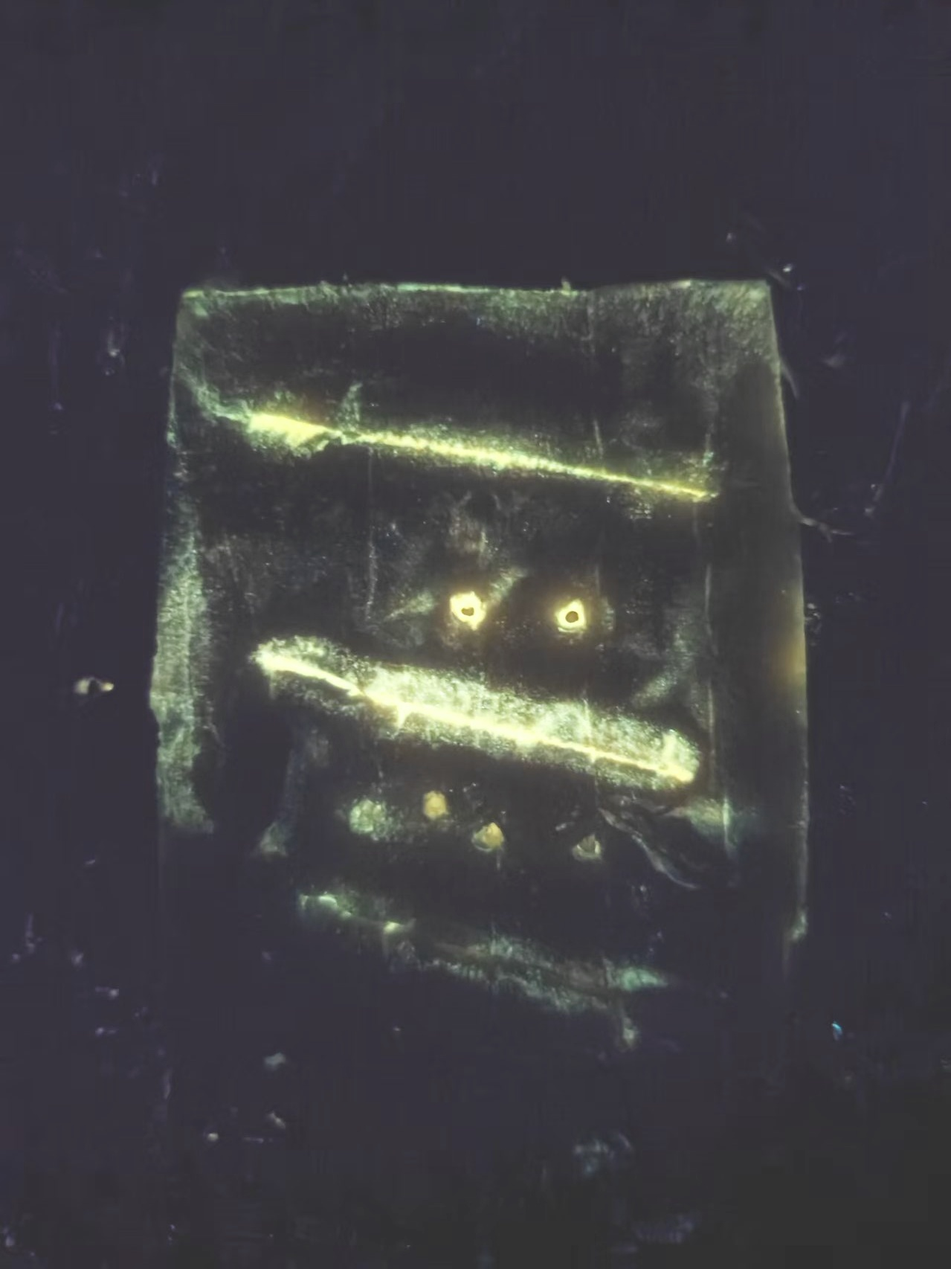Crater: (438, 567, 502, 651), (545, 579, 599, 660), (462, 805, 523, 869), (410, 778, 467, 830)
Fissure: (238, 616, 710, 815), (192, 363, 723, 530)
